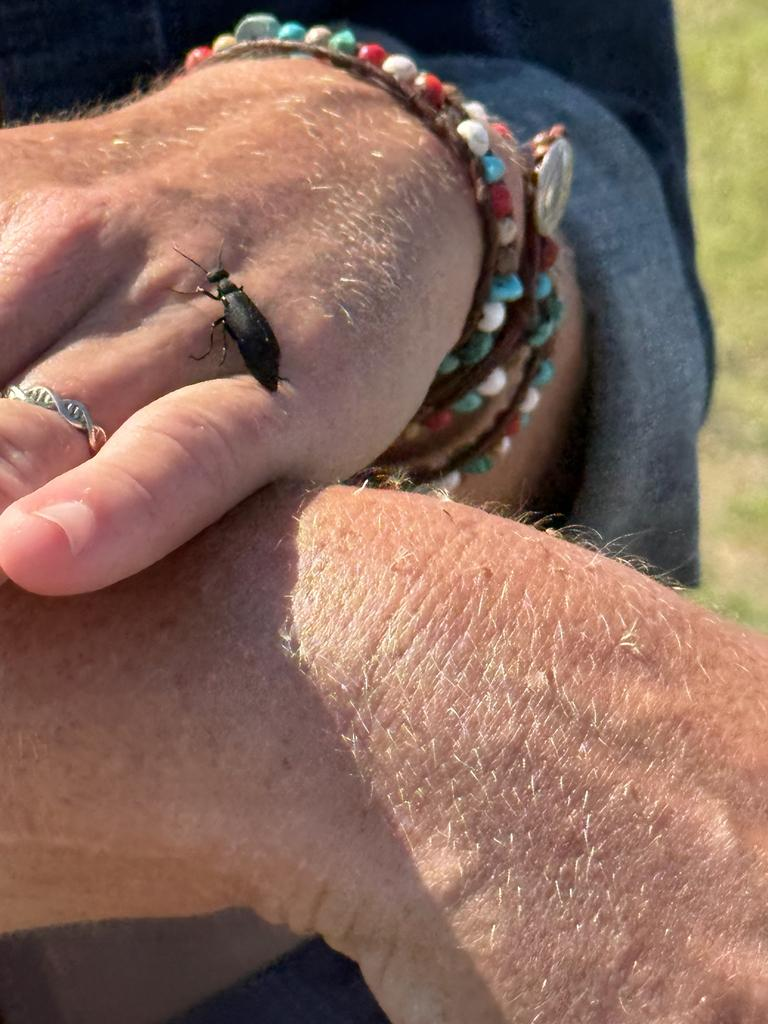blister_beetle: (140, 199, 333, 436)
